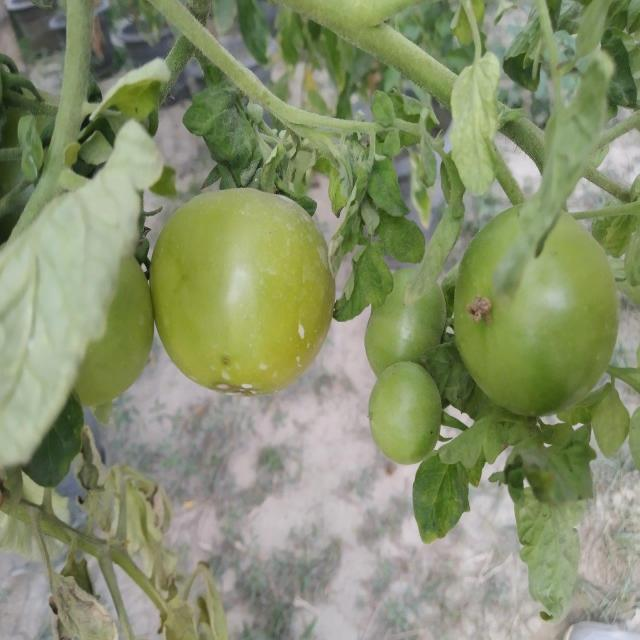Unripe: (152, 186, 335, 397), (452, 200, 621, 415), (366, 259, 446, 371), (366, 362, 441, 464)
